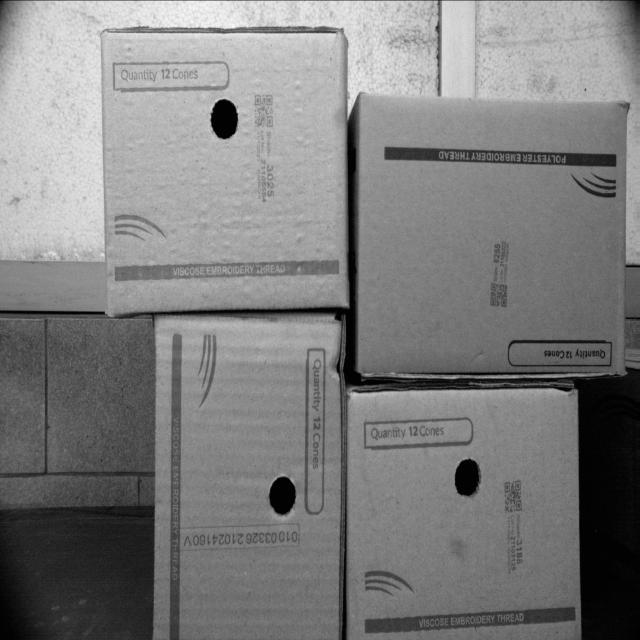box: (358, 90, 628, 374), (102, 23, 348, 313), (152, 312, 346, 639), (346, 386, 578, 639)
